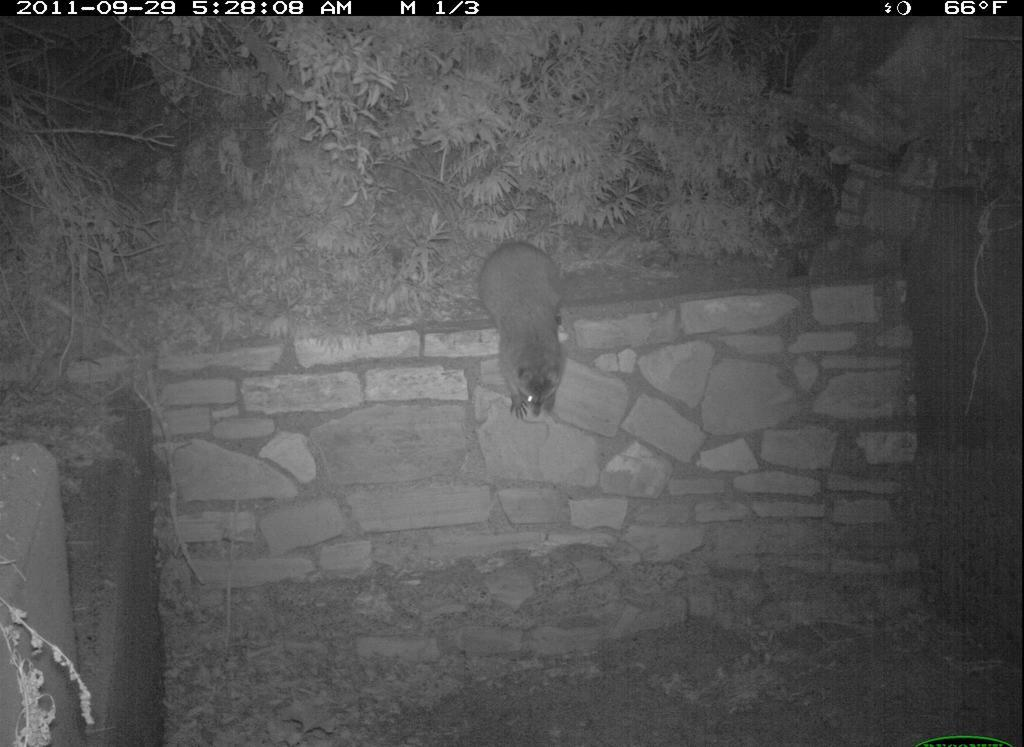raccoon: (472, 233, 589, 433)
